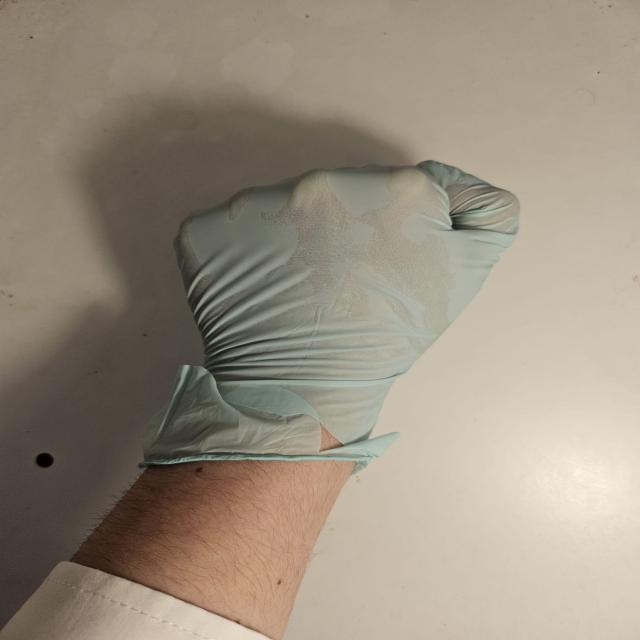gloves_damaged: (137, 156, 526, 466)
